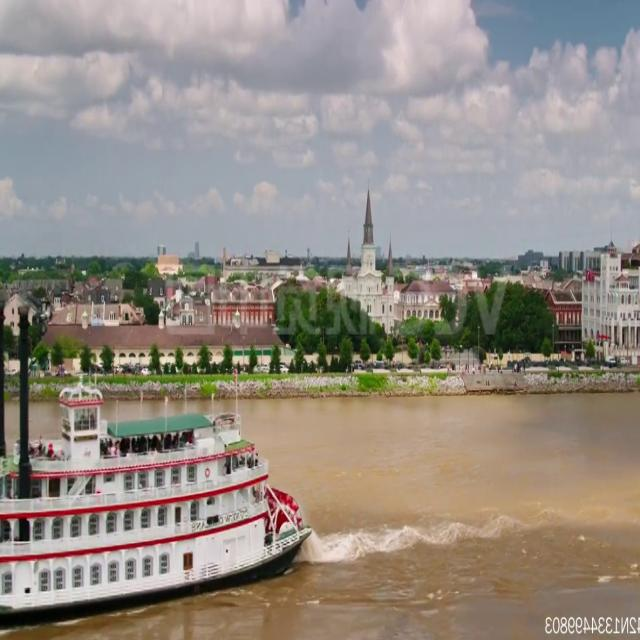passenger ship: (0, 367, 315, 628)
